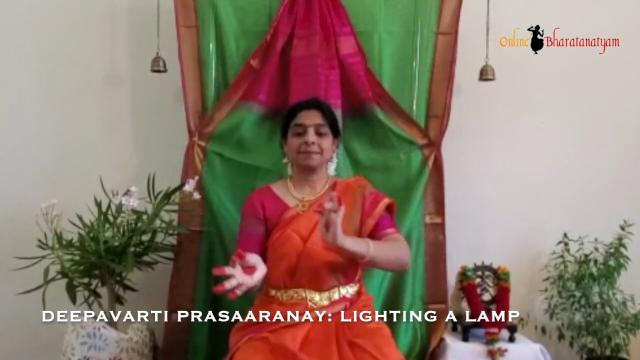hansaasya: (208, 234, 272, 314)
